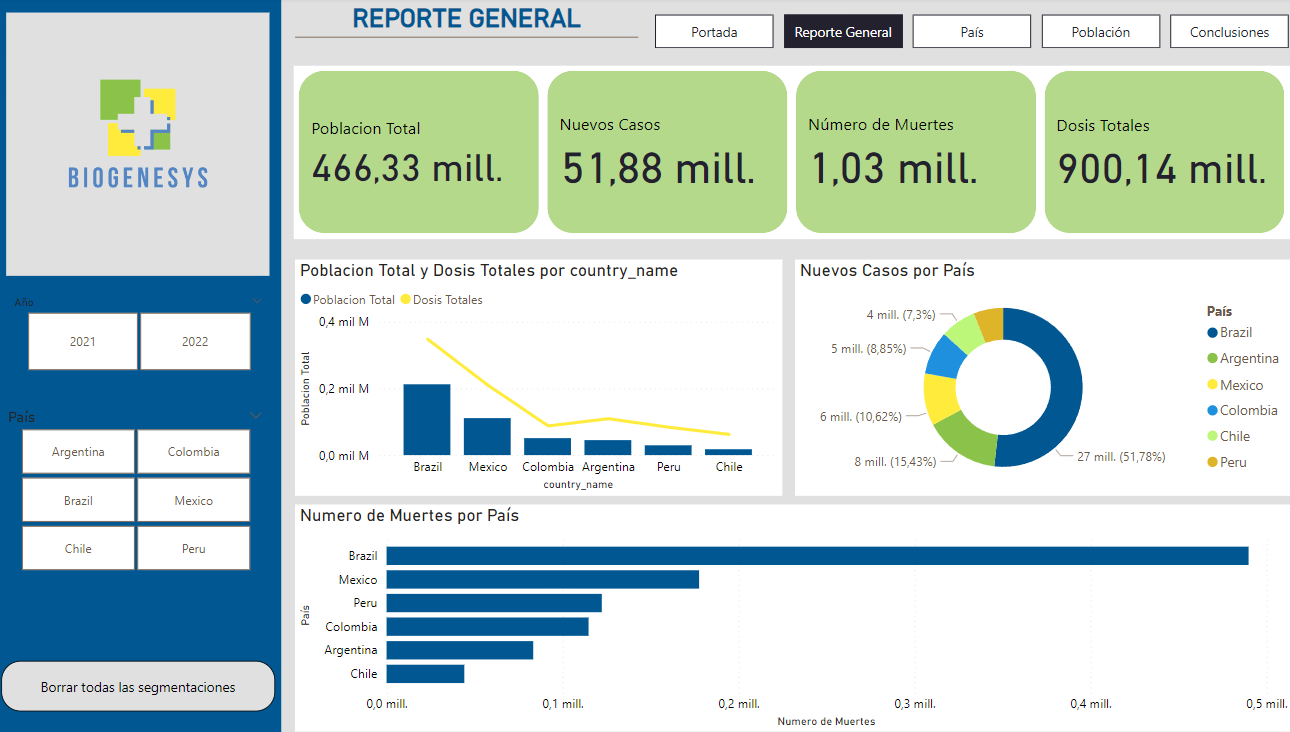

This screenshot's page, from the dashboard's own definition file:
{"tool":"powerbi","page":{"name":"Reporte General","canvas":[1280,720],"ordinal":1},"visuals":[{"type":"textbox","box":[9.8,0,280,720.2],"z":0},{"type":"image","box":[15.5,0,267.6,287.3],"z":1000},{"type":"cardVisual","fields":{"Data":["Datos_Finales_Filtrados (2).Poblacion Total","Sum(Datos_Finales_Filtrados (2).new_confirmed)","Sum(Datos_Finales_Filtrados (2).new_deceased)","Datos_Finales_Filtrados (2).Dosis Totales"]},"box":[302.3,67,977.9,169.6],"z":2000},{"type":"pageNavigator","box":[655.4,17.1,624.9,33],"z":3000},{"type":"slicer","fields":{"Values":["Datos_Finales_Filtrados (2).date.Variación.Jerarquía de fechas.Año"]},"box":[15.5,287.3,267.6,84.5],"z":4000},{"type":"actionButton","box":[15.5,649.3,267.6,49.3],"z":5000},{"type":"textbox","title":"REPORTE GENERAL","box":[303.3,6.1,336.3,63.6],"z":6000},{"type":"slicer","fields":{"Values":["Datos_Finales_Filtrados (2).country_name"]},"box":[9.8,397.4,273.9,170],"z":7000},{"type":"lineClusteredColumnComboChart","fields":{"Category":["Datos_Finales_Filtrados (2).country_name"],"Y":["Datos_Finales_Filtrados (2).Poblacion Total"],"Y2":["Datos_Finales_Filtrados (2).Dosis Totales"]},"box":[303.6,256.3,477.1,231.3],"z":8000},{"type":"clusteredBarChart","fields":{"Category":["Datos_Finales_Filtrados (2).country_name"],"Y":["Sum(Datos_Finales_Filtrados (2).new_deceased)"]},"box":[303.6,496.9,976.6,223.5],"z":9000},{"type":"donutChart","fields":{"Category":["Datos_Finales_Filtrados (2).country_name"],"Y":["Tabla Medidas.Nuevos Casos"]},"box":[792.6,256.3,487.7,231.3],"z":10000}]}

Visuals, with their boxes in screenshot pixels (x1, y1, x2, y2), scaled from the page's 1280x720 canvas onto the 1290x732 screenshot:
textbox: locate(10, 0, 292, 731)
image: locate(16, 0, 285, 292)
cardVisual - Datos_Finales_Filtrados (2).Poblacion Total x Sum(Datos_Finales_Filtrados (2).new_confirmed): locate(305, 68, 1289, 241)
pageNavigator: locate(661, 17, 1289, 51)
slicer - Datos_Finales_Filtrados (2).date.Variación.Jerarquía de fechas.Año: locate(16, 292, 285, 378)
actionButton: locate(16, 660, 285, 710)
"REPORTE GENERAL" textbox: locate(306, 6, 645, 71)
slicer - Datos_Finales_Filtrados (2).country_name: locate(10, 404, 286, 577)
lineClusteredColumnComboChart - Datos_Finales_Filtrados (2).country_name x Datos_Finales_Filtrados (2).Poblacion Total: locate(306, 261, 787, 496)
clusteredBarChart - Datos_Finales_Filtrados (2).country_name x Sum(Datos_Finales_Filtrados (2).new_deceased): locate(306, 505, 1289, 731)
donutChart - Datos_Finales_Filtrados (2).country_name x Tabla Medidas.Nuevos Casos: locate(799, 261, 1289, 496)
